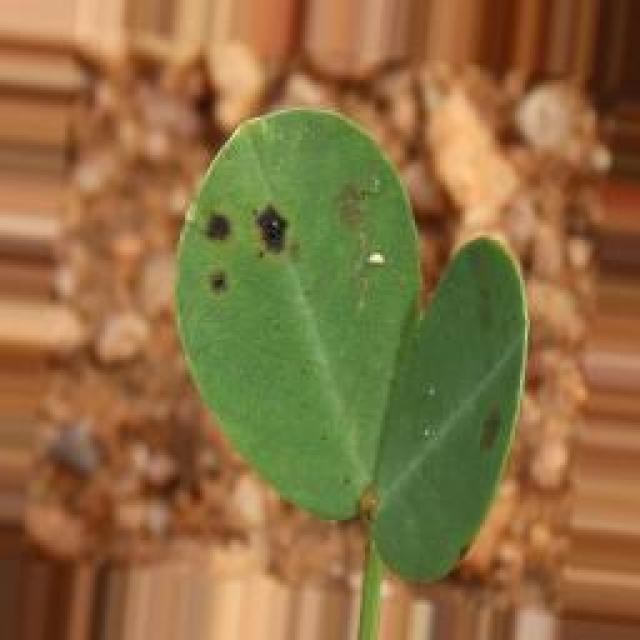Yellowish: (169, 165, 341, 320), (311, 135, 395, 273)
